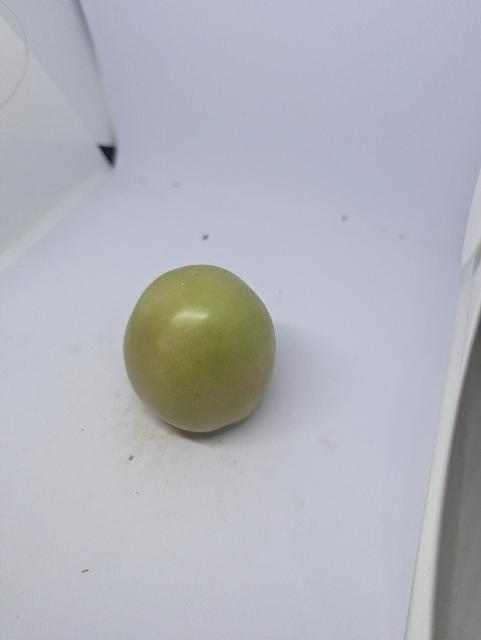green: (115, 262, 306, 453)
